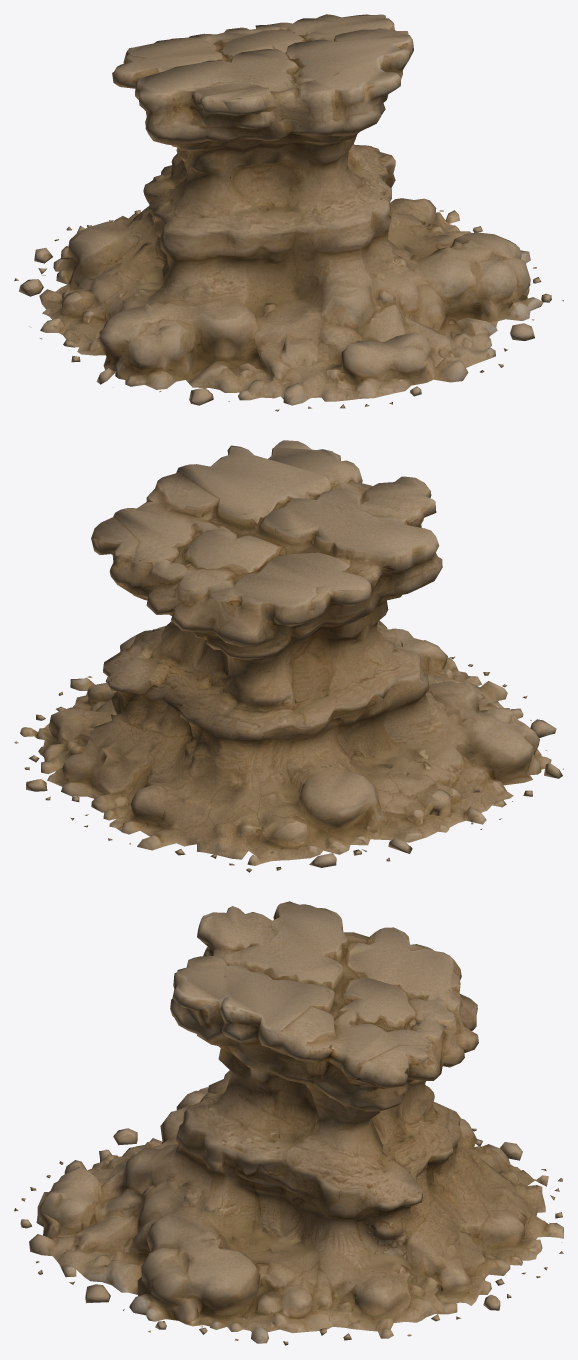
Rendered from rocks (1).glb.
3 renders of one model, top to bottom at view 1: azimuth 30°, elevation 25°; view 2: azimuth 150°, elevation 25°; view 3: azimuth 270°, elevation 25°, orthographic. The views are drawn at different scales.
Visible parts, largest first — view 1: tripo_node_9e914b5a-8e45-4d88-9ecd-5665e9739280; view 2: tripo_node_9e914b5a-8e45-4d88-9ecd-5665e9739280; view 3: tripo_node_9e914b5a-8e45-4d88-9ecd-5665e9739280.
Part boxes in pixels (<box>): tripo_node_9e914b5a-8e45-4d88-9ecd-5665e9739280: <box>14,14,563,411</box>; tripo_node_9e914b5a-8e45-4d88-9ecd-5665e9739280: <box>14,440,563,872</box>; tripo_node_9e914b5a-8e45-4d88-9ecd-5665e9739280: <box>14,901,563,1345</box>.
Size of the model in its own units: 0.998 by 0.541 by 0.998.
1 material, 1 textured.
